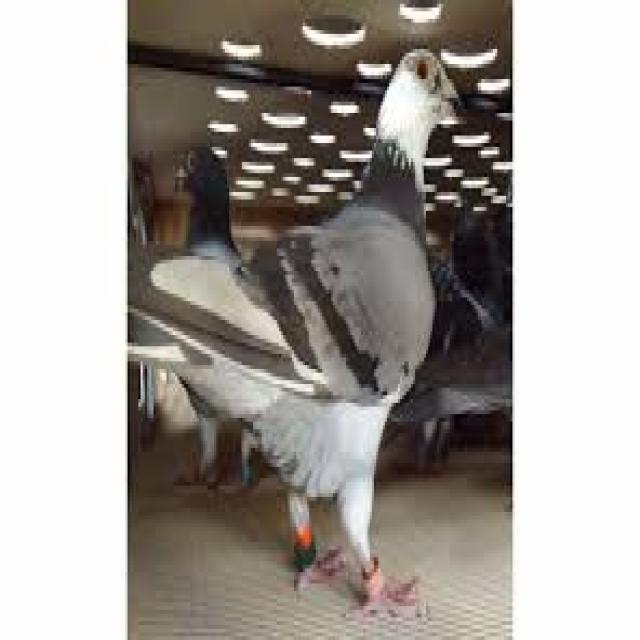pigeon: (115, 35, 458, 599)
